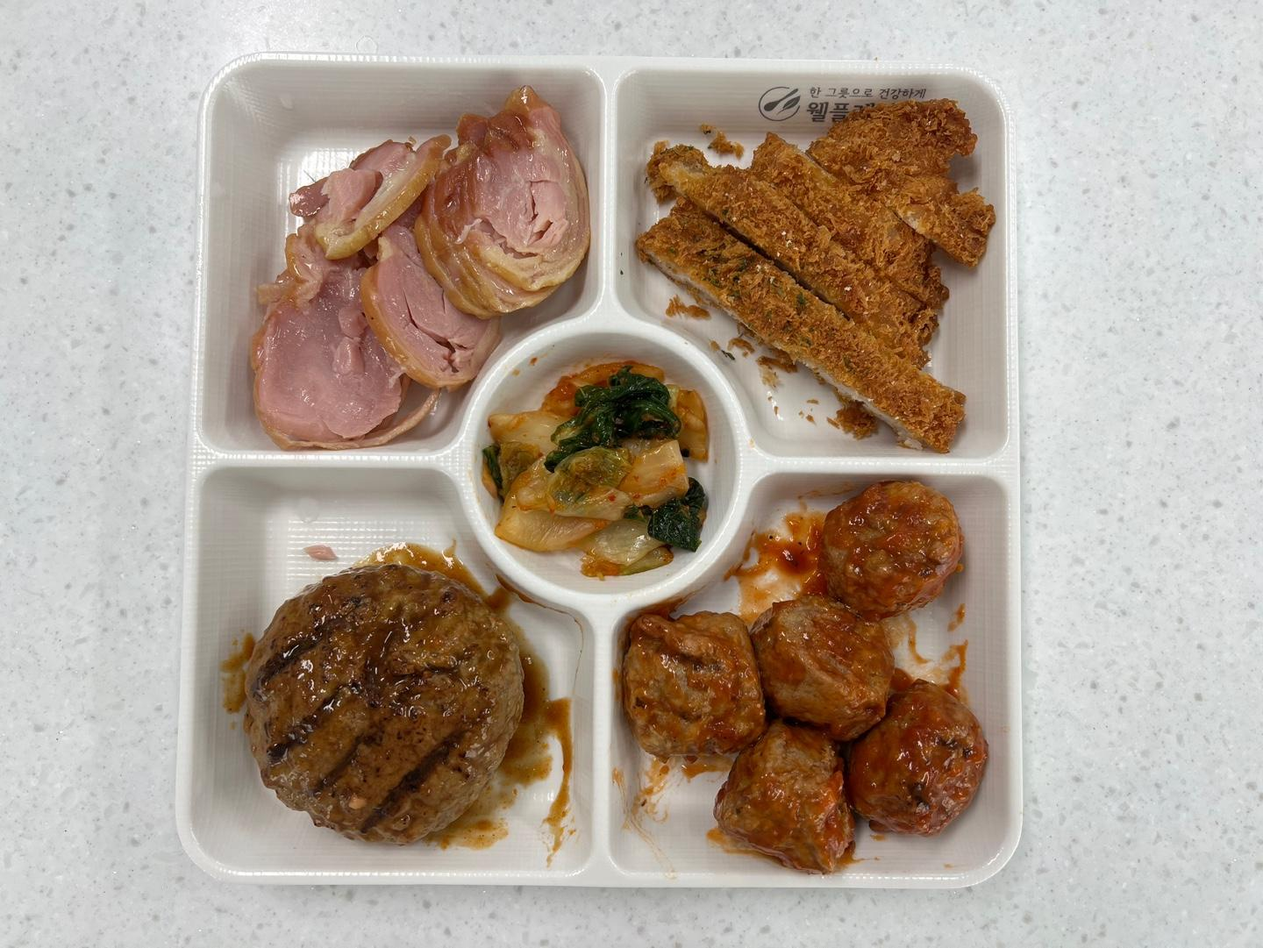food: (618, 481, 989, 874), (640, 481, 985, 861), (632, 100, 997, 456), (235, 89, 582, 453), (249, 89, 591, 454), (642, 83, 991, 438), (227, 516, 535, 871), (240, 557, 528, 848), (481, 355, 708, 579), (498, 346, 713, 569)
